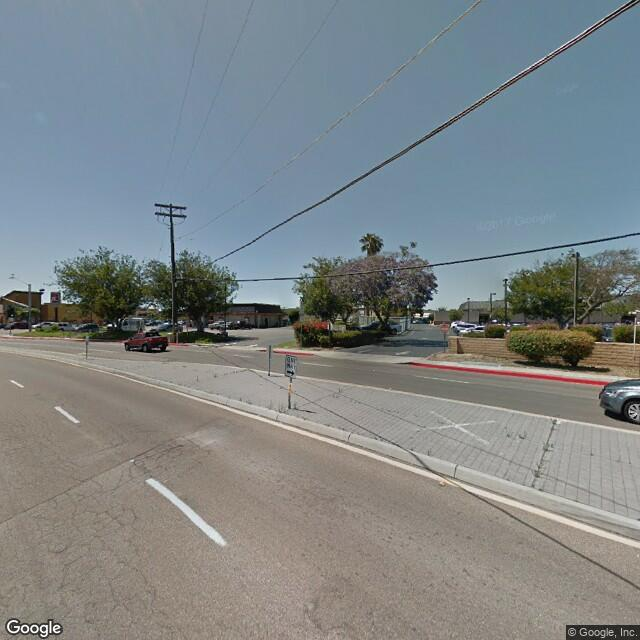litter: (434, 481, 452, 488)
